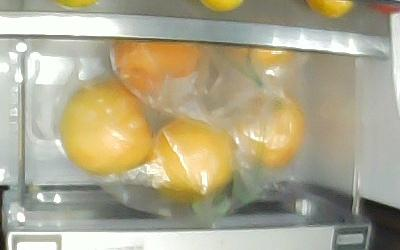grapefruit_vinyl: (60, 79, 152, 174), (149, 117, 234, 200), (236, 91, 304, 167), (111, 43, 201, 94)
